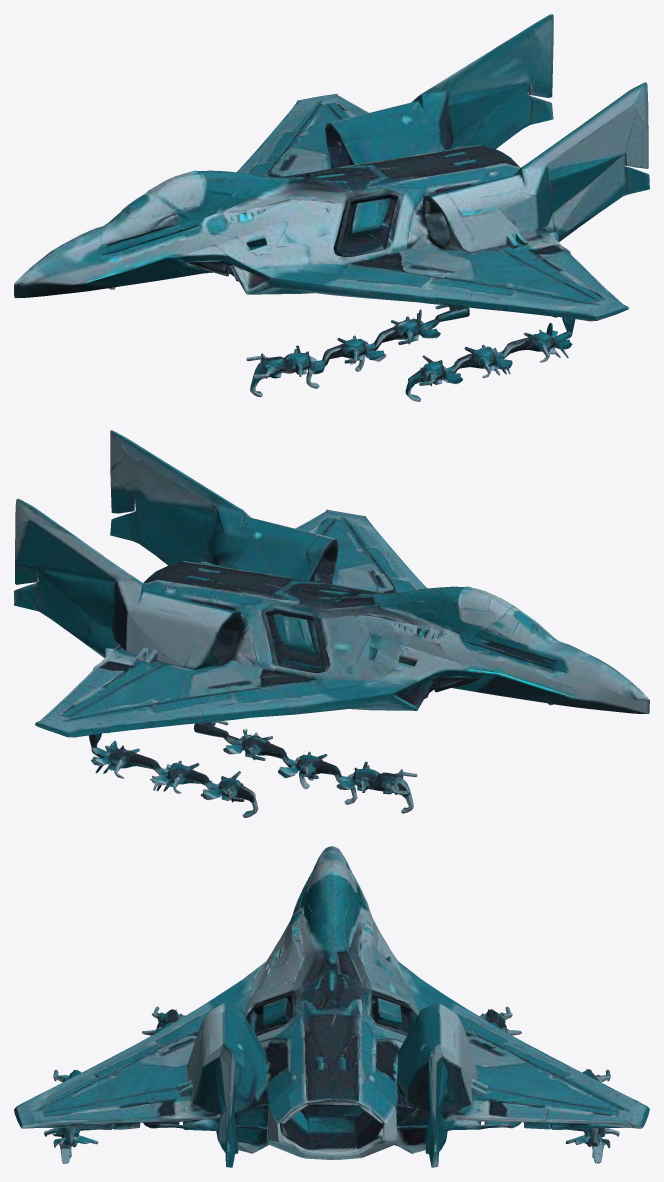
File: m_wizard_jet.glb
The picture shows the model from 3 angles, top to bottom: view 1: azimuth 30°, elevation 25°; view 2: azimuth 150°, elevation 25°; view 3: azimuth 270°, elevation 25°; orthographic projection. The views are drawn at different scales.
Bounding box in the file's own units: 1.9 × 0.6036 × 1.68.
Materials: 1 (1 with a texture image).
